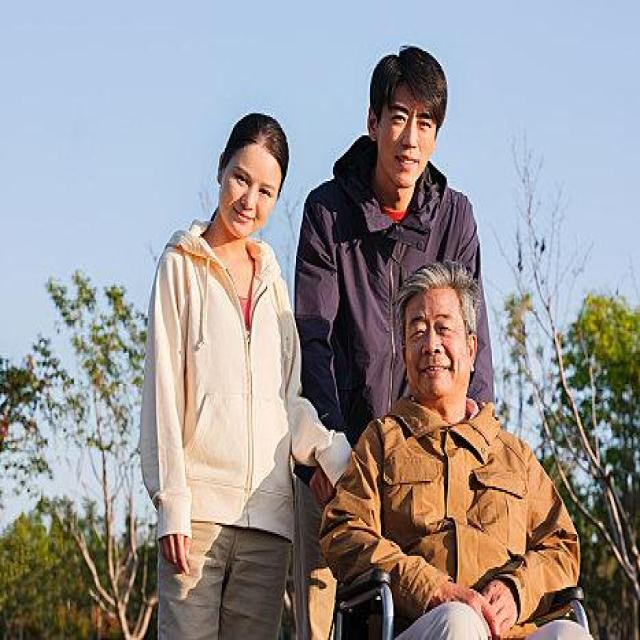wheelchairs: (283, 418, 603, 640)
